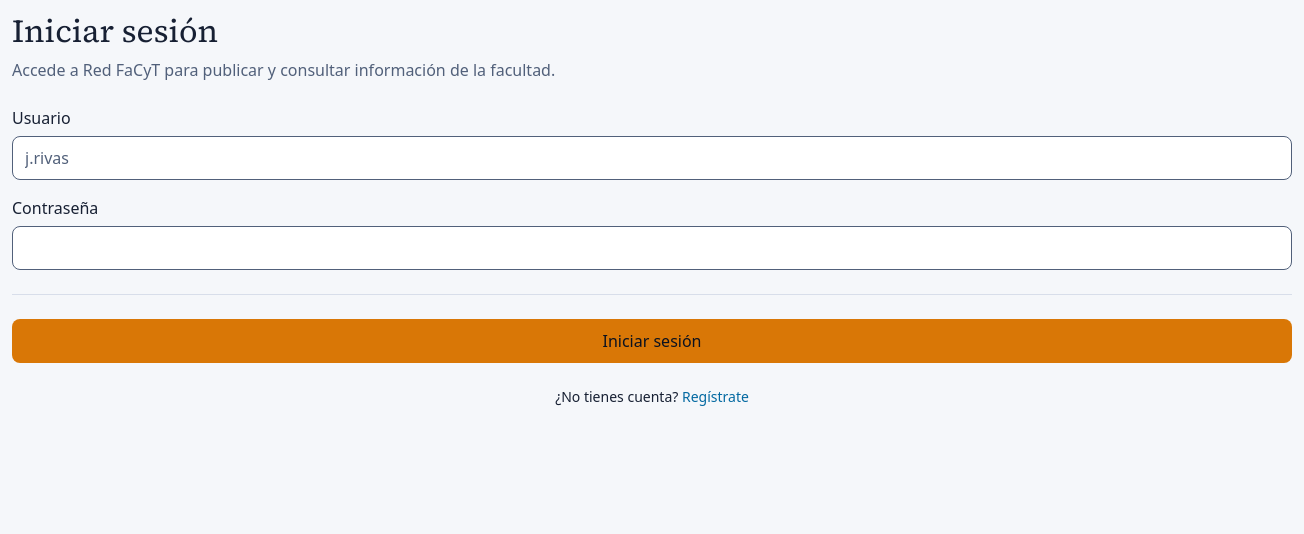
Test: LoginForm › handles invalid credentials by emptying password field
Type "wrong" into the field labelled "Usuario" at (652, 158), box [12,136,1292,180]
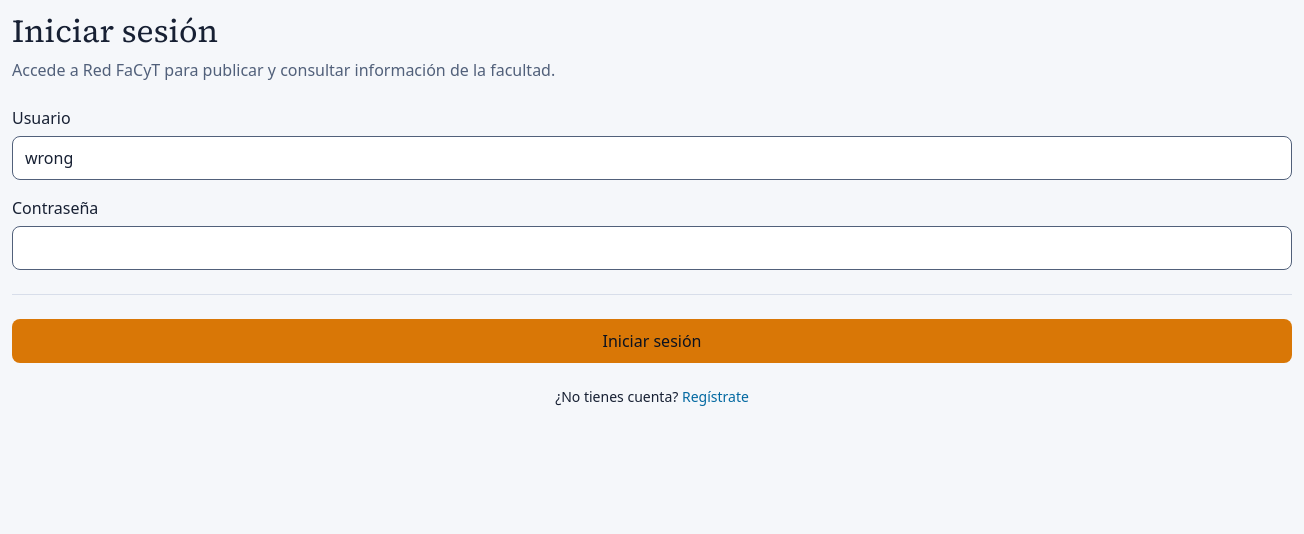
Type "pass123" into the password field labelled "Contraseña" at (652, 248), box [12,226,1292,270]
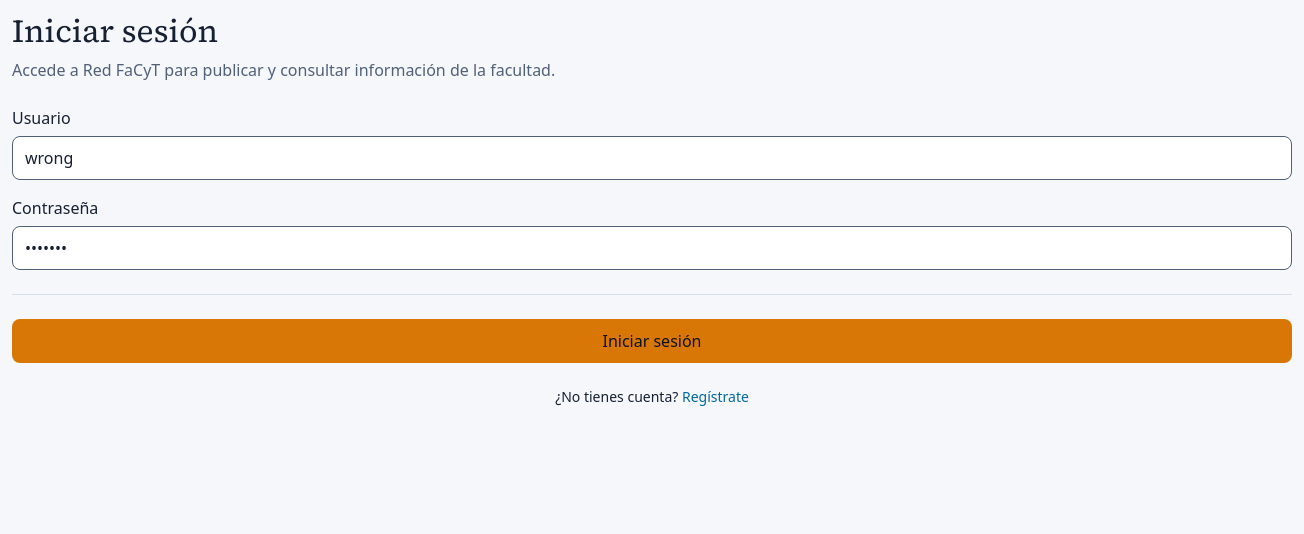
Click the button "Iniciar sesión" at (652, 341), box [12,319,1292,363]
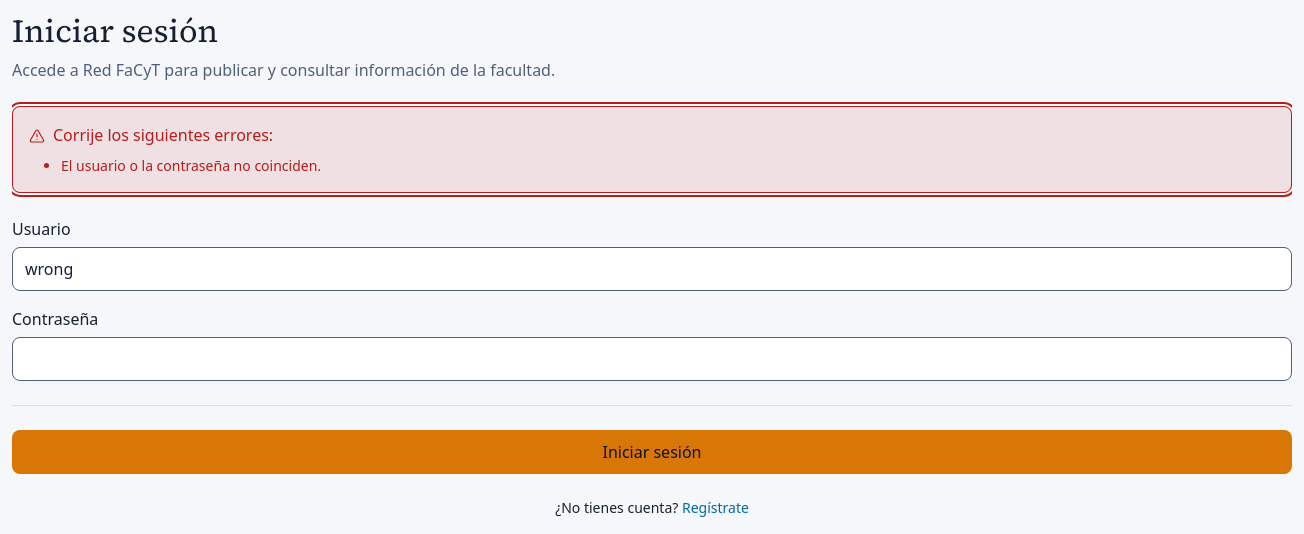
Result: the message "Corrije los siguientes errores: El usuario o la contraseña no coinciden." is shown at [12,106,1292,193]
Result: the list item "El usuario o la contraseña no coinciden." is shown at [61,156,321,175]
Result: the password field labelled "Contraseña" is empty at [12,337,1292,381]
